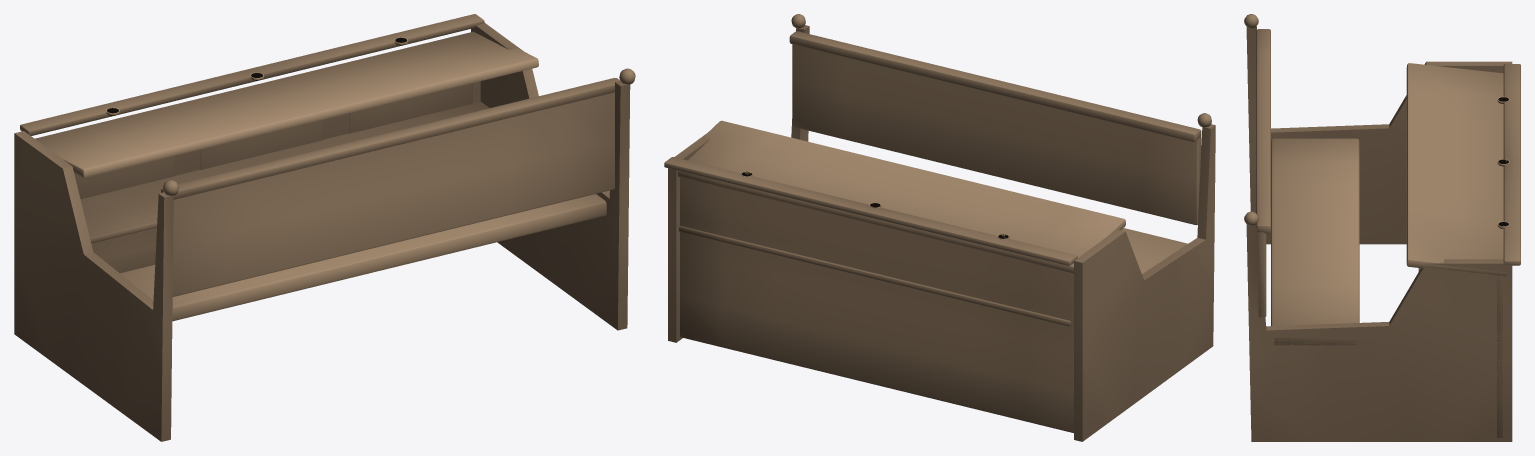
The model's file is obj_kit_deskrow.glb.
3 views of the same model, side by side, from view 1: azimuth 30°, elevation 25°; view 2: azimuth 150°, elevation 25°; view 3: azimuth 270°, elevation 25° (orthographic). The views are drawn at different scales.
Parts seen in each view (by area): view 1: Cube.009, end, Cube.004, end.001, Cube.008, Cube.010, Cube.007, Cube.005, Cube.001, Cube.003, Cube.002, Cube; view 2: Cube, Cube.009, end, Cube.004, Cube.010, Cube.005, end.001, Cube.007, Cube.008; view 3: end.001, Cube.004, Cube.008, end, Cube.005, Cube.010, Cube, Cube.009.
Part boxes in pixels (bbox=[...]): Cube.009: bbox=[172, 92, 614, 296]; end: bbox=[14, 131, 173, 441]; Cube.004: bbox=[35, 31, 538, 177]; end.001: bbox=[471, 23, 630, 330]; Cube.008: bbox=[120, 194, 606, 321]; Cube.010: bbox=[161, 78, 619, 199]; Cube.007: bbox=[80, 101, 489, 243]; Cube.005: bbox=[20, 14, 484, 135]; Cube.001: bbox=[74, 156, 174, 273]; Cube.003: bbox=[349, 83, 472, 133]; Cube.002: bbox=[200, 119, 323, 169]; Cube: bbox=[175, 81, 480, 175]; Cube: bbox=[680, 177, 1073, 432]; Cube.009: bbox=[792, 44, 1201, 225]; end: bbox=[1074, 124, 1215, 441]; Cube.004: bbox=[677, 120, 1125, 273]; Cube.010: bbox=[789, 31, 1201, 141]; Cube.005: bbox=[664, 157, 1077, 265]; end.001: bbox=[668, 25, 809, 342]; Cube.007: bbox=[679, 225, 1071, 326]; Cube.008: bbox=[1121, 228, 1187, 273]; end.001: bbox=[1246, 224, 1512, 441]; Cube.004: bbox=[1406, 63, 1507, 276]; Cube.008: bbox=[1271, 138, 1359, 345]; end: bbox=[1246, 26, 1512, 244]; Cube.005: bbox=[1503, 64, 1520, 265]; Cube.010: bbox=[1256, 29, 1270, 233]; Cube: bbox=[1497, 276, 1502, 437]; Cube.009: bbox=[1257, 232, 1266, 317].
Bounding box in the file's own units: 1.97 × 1.03 × 1.13.
